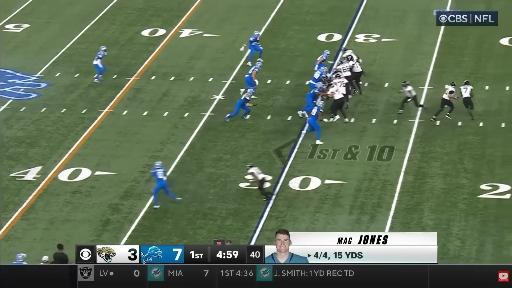Helmet: (16, 254, 27, 262), (155, 161, 163, 169), (100, 47, 107, 55), (346, 55, 354, 62), (316, 83, 323, 90), (247, 89, 255, 95), (247, 163, 253, 170), (451, 81, 457, 88), (403, 81, 409, 88), (318, 101, 324, 108), (254, 31, 259, 39), (326, 82, 332, 88), (464, 81, 471, 86), (322, 67, 327, 74), (256, 63, 262, 68), (324, 51, 329, 57), (338, 60, 344, 65), (334, 68, 339, 74), (342, 48, 347, 53), (336, 74, 341, 79)
Jersey: (333, 79, 347, 99), (151, 168, 166, 183), (248, 167, 264, 180), (329, 85, 343, 99), (337, 62, 351, 76), (309, 106, 322, 121), (310, 70, 324, 83), (460, 85, 473, 98), (443, 86, 455, 99), (93, 51, 105, 64), (307, 88, 321, 99), (343, 50, 358, 60), (248, 35, 260, 46), (404, 86, 416, 97), (246, 66, 259, 76), (352, 61, 362, 72), (241, 94, 251, 103), (317, 54, 328, 62)
Player: (151, 162, 181, 208), (431, 82, 458, 121), (226, 89, 256, 121), (298, 83, 324, 117), (330, 74, 348, 122), (247, 164, 270, 200), (398, 81, 423, 114), (336, 60, 358, 94), (307, 100, 324, 144), (241, 62, 262, 94), (347, 55, 363, 94), (247, 31, 263, 65), (460, 81, 474, 119), (93, 46, 107, 82), (308, 67, 328, 88), (315, 50, 330, 70), (343, 48, 361, 62), (321, 74, 332, 84)
